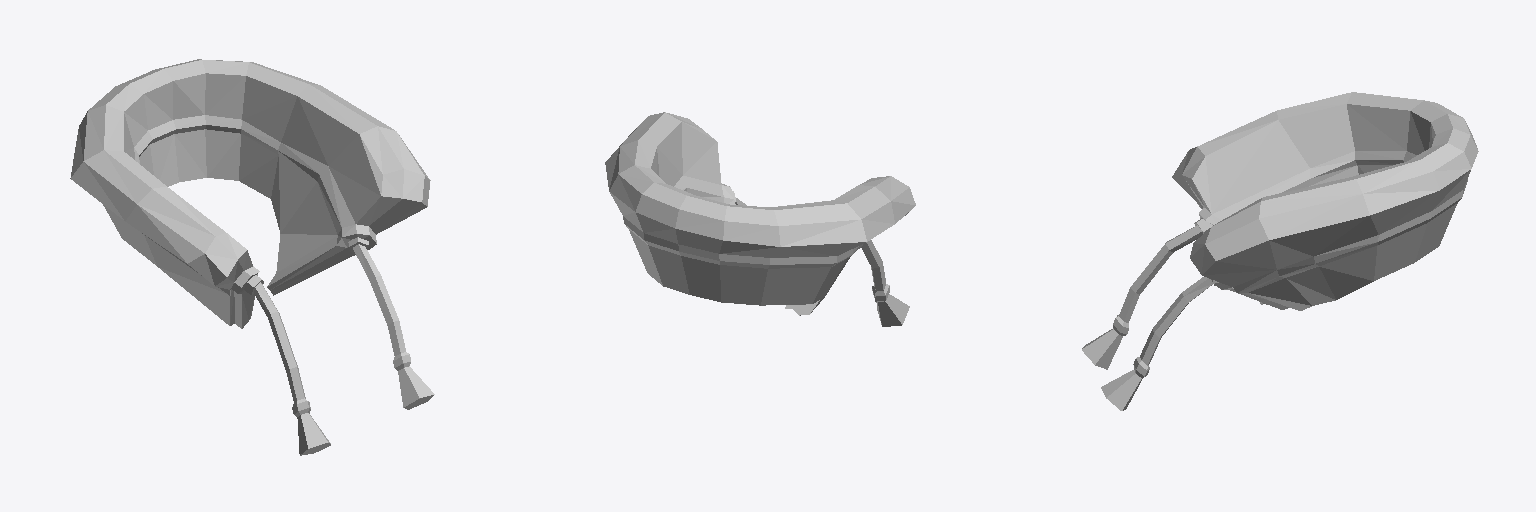
Rendered from collar.obj.
The picture shows the model from 3 angles: view 1: azimuth 30°, elevation 25°; view 2: azimuth 150°, elevation 25°; view 3: azimuth 270°, elevation 25°; orthographic projection.
Parts seen in each view (by area): view 1: xms_snowcoat_reference.001_xms_snowcoat_reference.003; view 2: xms_snowcoat_reference.001_xms_snowcoat_reference.003; view 3: xms_snowcoat_reference.001_xms_snowcoat_reference.003.
Part boxes in pixels (left/top/right/bottom): xms_snowcoat_reference.001_xms_snowcoat_reference.003: left=70, top=59, right=434, bottom=455; xms_snowcoat_reference.001_xms_snowcoat_reference.003: left=605, top=112, right=915, bottom=326; xms_snowcoat_reference.001_xms_snowcoat_reference.003: left=1082, top=92, right=1478, bottom=410.
Bounding box in the file's own units: 16.14 × 13.81 × 19.49.